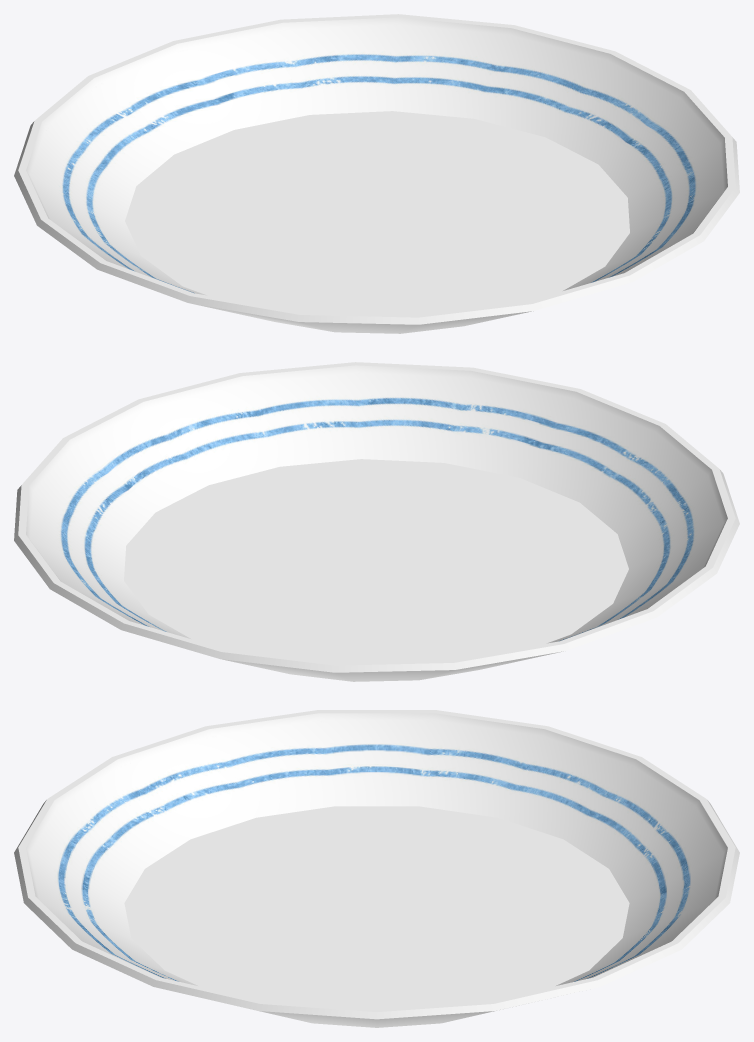
3 renders of one model, top to bottom at view 1: azimuth 30°, elevation 25°; view 2: azimuth 150°, elevation 25°; view 3: azimuth 270°, elevation 25°, orthographic.
Parts seen in each view (by area): view 1: Prato_Material #25_0; view 2: Prato_Material #25_0; view 3: Prato_Material #25_0.
Boxes of the visible parts, box(x1,y1,x2,y2) form: Prato_Material #25_0: box(14, 14, 739, 333); Prato_Material #25_0: box(14, 362, 739, 681); Prato_Material #25_0: box(14, 710, 739, 1027).
Bounding box in the file's own units: 97.44 × 12.45 × 97.77.
1 material, 1 textured.
